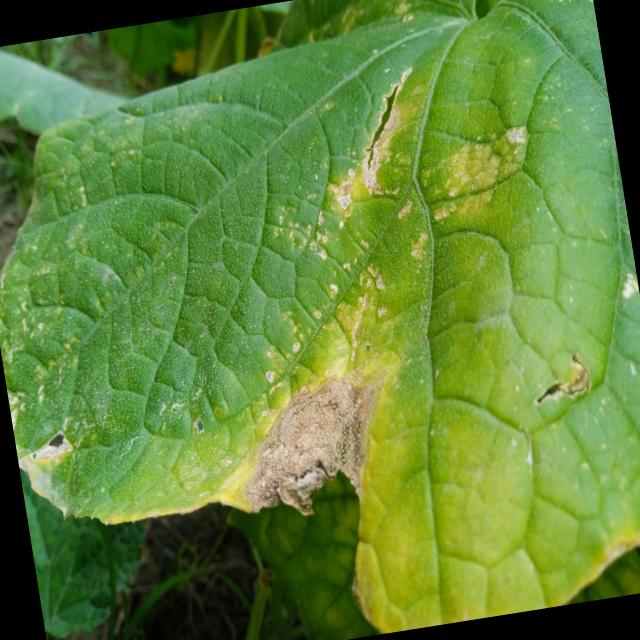cucumber_gummy: (0, 0, 513, 584)
